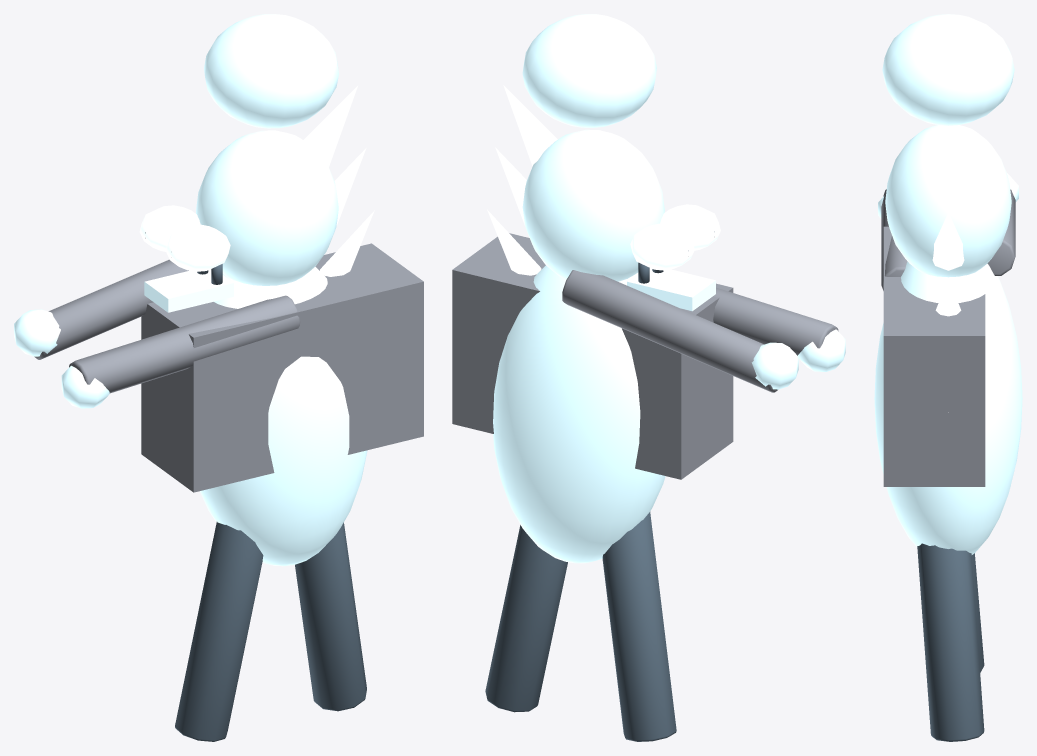
File: frostbite.glb
3 views of the same model, side by side, from view 1: azimuth 30°, elevation 25°; view 2: azimuth 150°, elevation 25°; view 3: azimuth 270°, elevation 25° (orthographic). The views are drawn at different scales.
Visible parts, largest first — view 1: chest, torso, head, ice_cap, leg, leg.001, arm.001, arm, mouth_band, eye.001, hand, eye (+4 smaller); view 2: torso, chest, head, ice_cap, leg, leg.001, arm, arm.001, eye, mouth_band, hand, eye.001 (+4 smaller); view 3: chest, torso, head, ice_cap, leg.001, ice_spike_1, ice_spike_0, arm, arm.001, leg, ice_spike_2.
Boxes of the visible parts, x1,y1,x2,y2 form: chest: [141, 243, 423, 492]; torso: [200, 266, 367, 566]; head: [196, 130, 338, 285]; ice_cap: [204, 14, 338, 128]; leg: [175, 522, 263, 741]; leg.001: [295, 522, 366, 711]; arm.001: [69, 295, 300, 393]; arm: [34, 259, 188, 359]; mouth_band: [144, 269, 233, 312]; eye.001: [165, 224, 230, 271]; hand: [14, 309, 60, 356]; eye: [139, 205, 200, 251]; torso: [493, 265, 665, 563]; chest: [452, 233, 733, 479]; head: [522, 129, 664, 281]; ice_cap: [522, 14, 656, 127]; leg: [602, 511, 676, 741]; leg.001: [485, 525, 567, 712]; arm: [562, 270, 777, 392]; arm.001: [713, 287, 838, 355]; eye: [630, 223, 694, 270]; mouth_band: [627, 268, 715, 311]; hand: [751, 342, 798, 389]; eye.001: [660, 204, 720, 250]; chest: [883, 226, 985, 486]; torso: [874, 261, 1022, 554]; head: [885, 125, 1011, 277]; ice_cap: [882, 14, 1014, 125]; leg.001: [917, 543, 984, 741]; ice_spike_1: [932, 212, 964, 270]; ice_spike_0: [930, 145, 966, 200]; arm: [987, 189, 1015, 275]; arm.001: [881, 189, 907, 290]; leg: [971, 553, 984, 672]; ice_spike_2: [935, 279, 961, 316].
Bounding box in the file's own units: 0.8539 × 1.63 × 0.3204.
